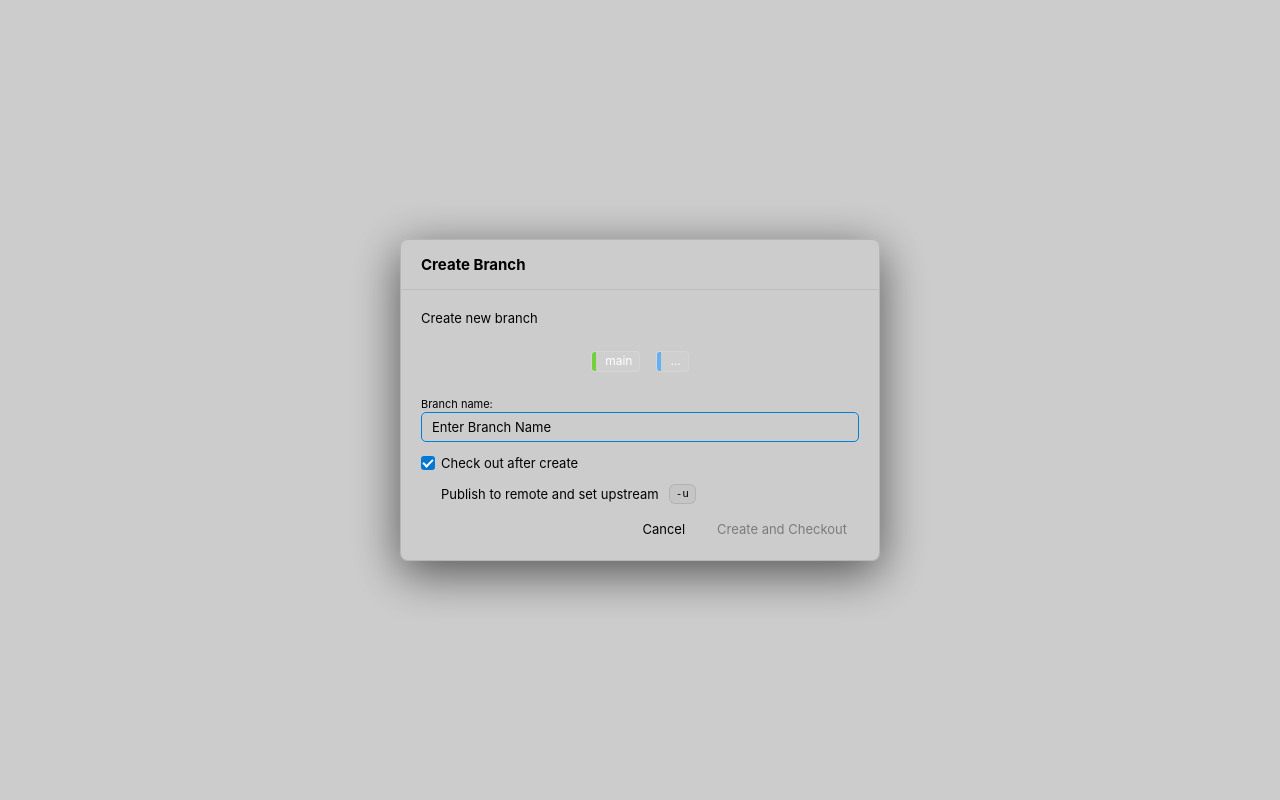
Test: CreateBranchModal › shows a warning and disables submit when name collides with an existing branch
The width and height of the screenshot is (1280, 800).
Type "feature/login" into the field with id "create-branch-name" at (640, 427), box [421, 412, 859, 442]
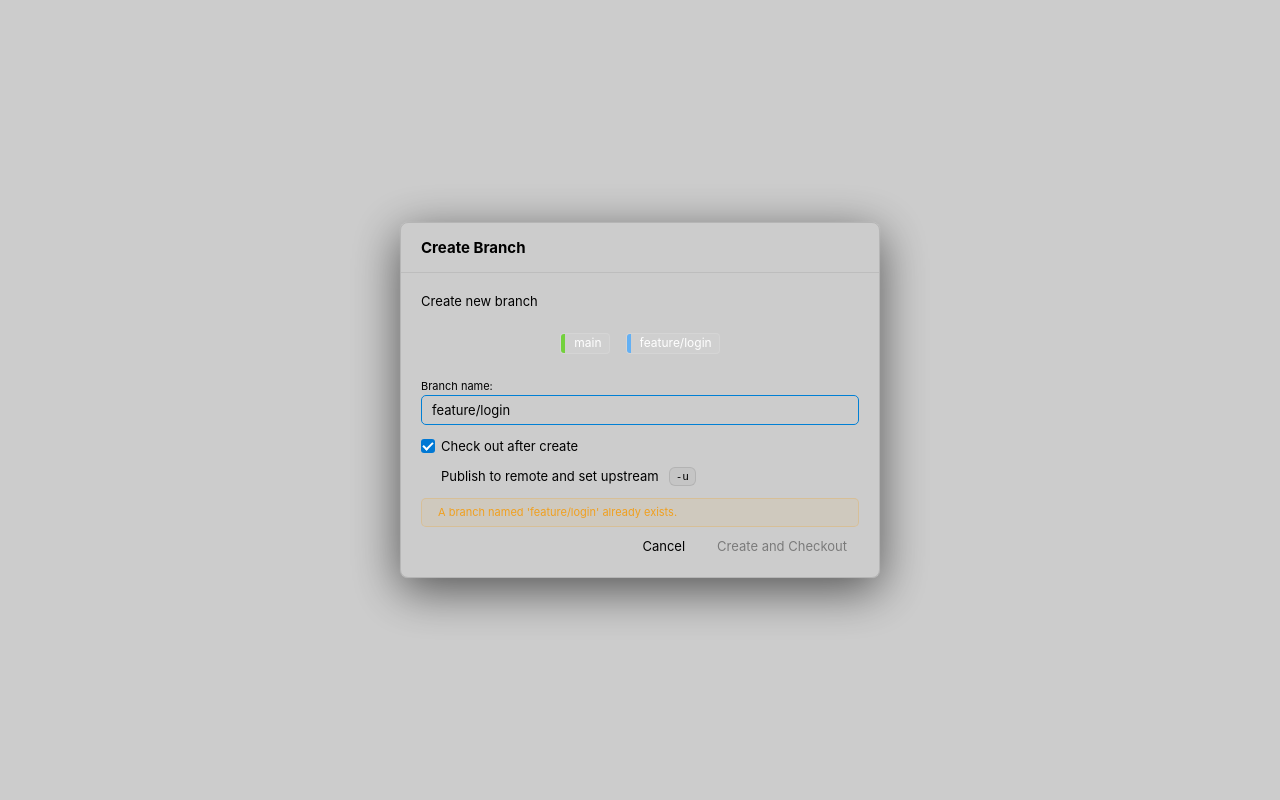
Expected: the button "Create and Checkout" is disabled, [705, 534, 859, 560]
Now the message "A branch named 'feature/login' already exists." is shown, box [421, 498, 859, 528]
